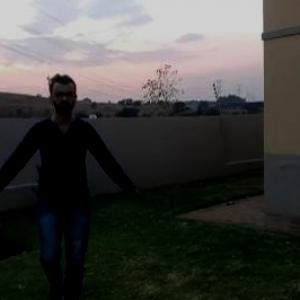land: (1, 66, 141, 299)
